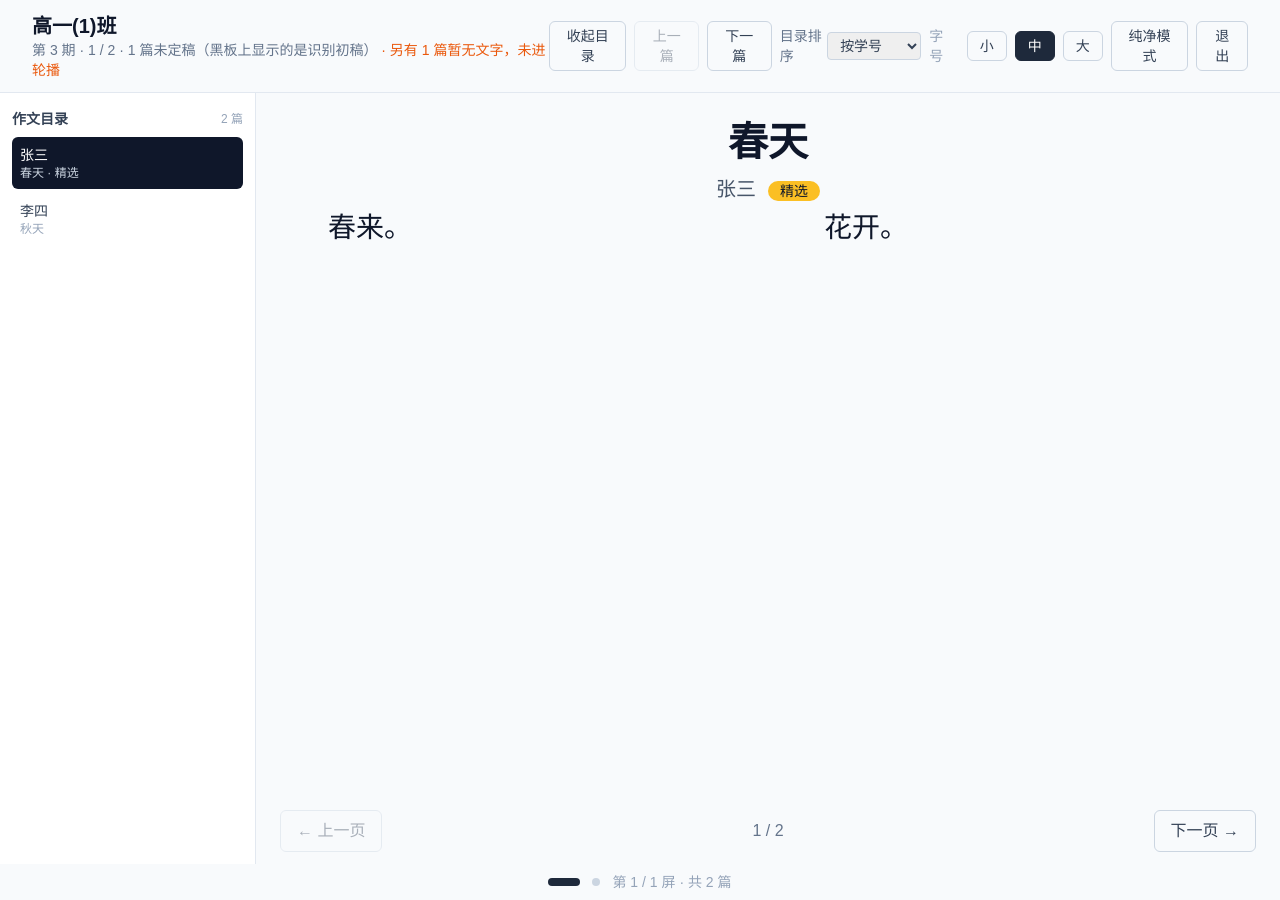
投屏列出全部有文字的稿件（真机 GAP-14：只能显示一篇） › 未定稿那篇挂「未定稿 · 识别初稿」徽标，定稿那篇不挂
Expected: the text with test id "present-name" is shown, [716,178,756,200]
Click the button "下一页 →": point(1205, 831) [1154,810,1256,852]
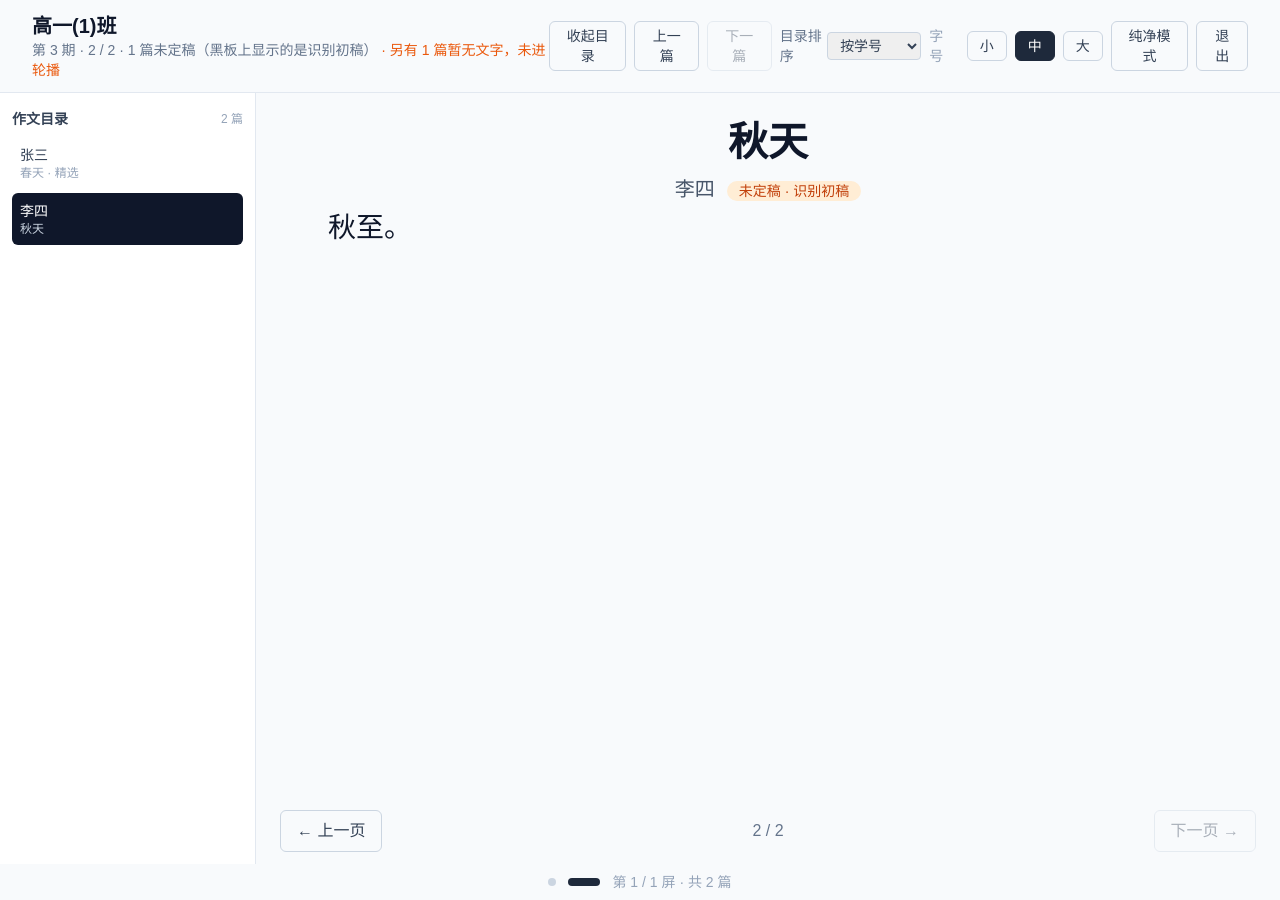
Now the text with test id "present-name" reads "李四", box [675,178,715,200]
Now the text with test id "present-draft" shows "识别初稿", box [739,183,849,199]
